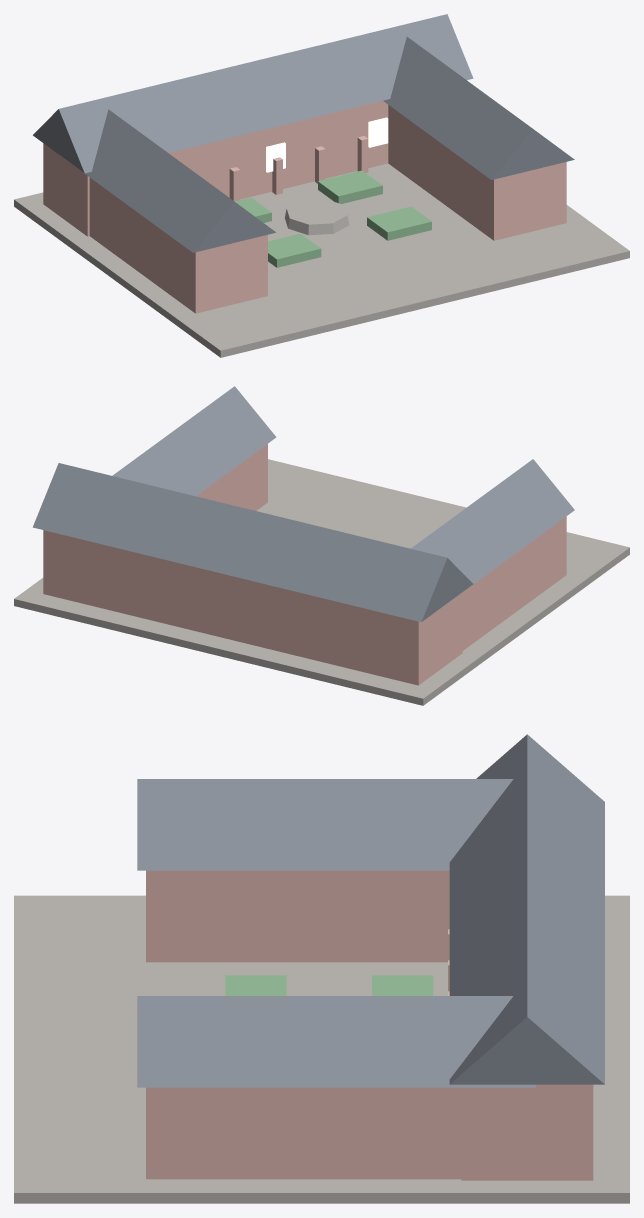
The model's file is lm_32_domaine_de_marie_convent_courtyard_kit.glb.
3 renders of one model, top to bottom at view 1: azimuth 30°, elevation 25°; view 2: azimuth 150°, elevation 25°; view 3: azimuth 270°, elevation 25°, orthographic. The views are drawn at different scales.
Parts seen in each view (by area): view 1: lm_32_domaine_de_marie_convent_courtyard_kit; view 2: lm_32_domaine_de_marie_convent_courtyard_kit; view 3: lm_32_domaine_de_marie_convent_courtyard_kit.
Boxes of the visible parts, box(x1,y1,x2,y2) form: lm_32_domaine_de_marie_convent_courtyard_kit: box(14, 14, 629, 357); lm_32_domaine_de_marie_convent_courtyard_kit: box(14, 386, 629, 705); lm_32_domaine_de_marie_convent_courtyard_kit: box(14, 734, 629, 1203).
Size of the model in its own units: 48 by 13.5 by 42.
